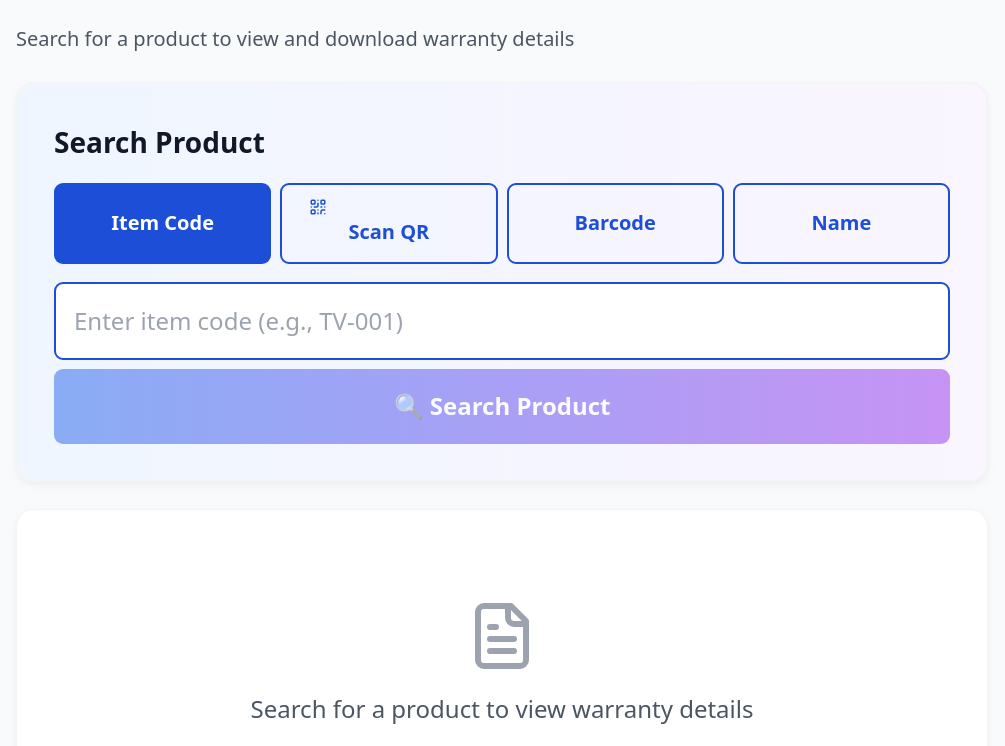
Scenario: GetWarranty - Page Functional Tests › Product Display › should display warranty status
The width and height of the screenshot is (1005, 746).
Type "TV-001" into the field with placeholder "Enter item code (e.g., TV-001)" at x=502, y=321, box [54,282,950,360]
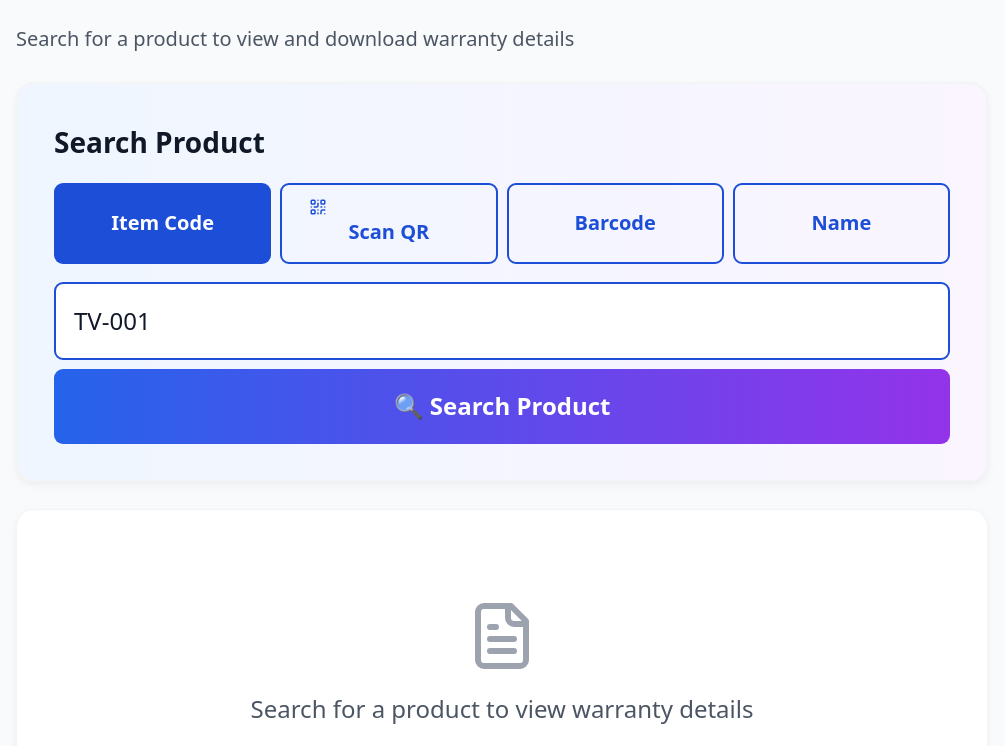
Click the button "🔍 Search Product" at x=502, y=407, box [54,369,950,444]
(page scrolled)
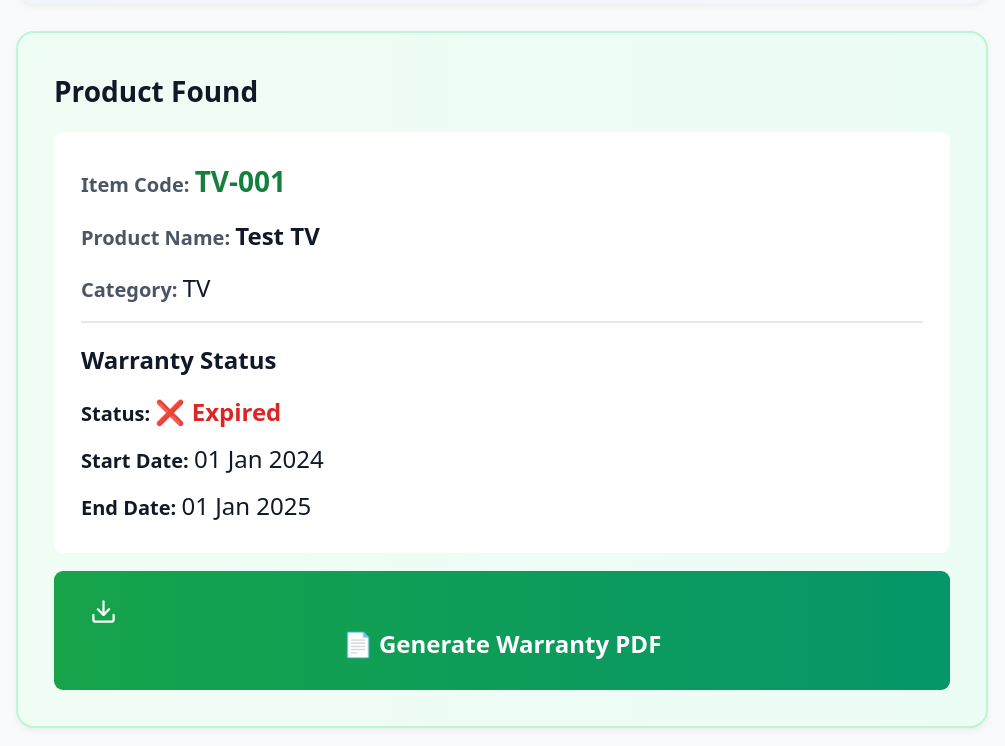
Check: the text "Status:" is shown, box [81,400,156,426]
